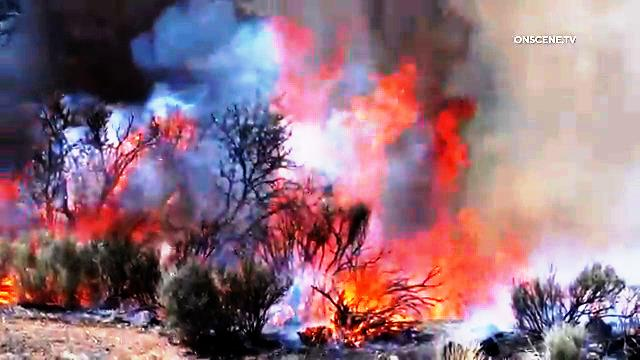fire: (291, 56, 512, 320)
smoke: (29, 0, 298, 103), (534, 59, 640, 250)
